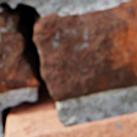brick: (5, 109, 136, 136)
broken_brick: (33, 0, 136, 100), (0, 9, 39, 92)
crack: (0, 1, 56, 134)
